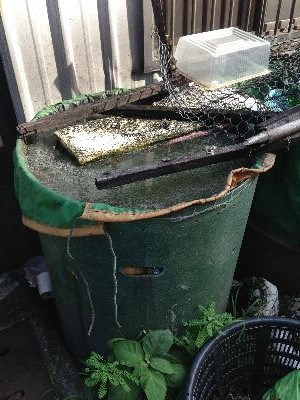bottle: (37, 270, 54, 300)
box: (173, 27, 269, 89)
bucket: (16, 91, 271, 343)
